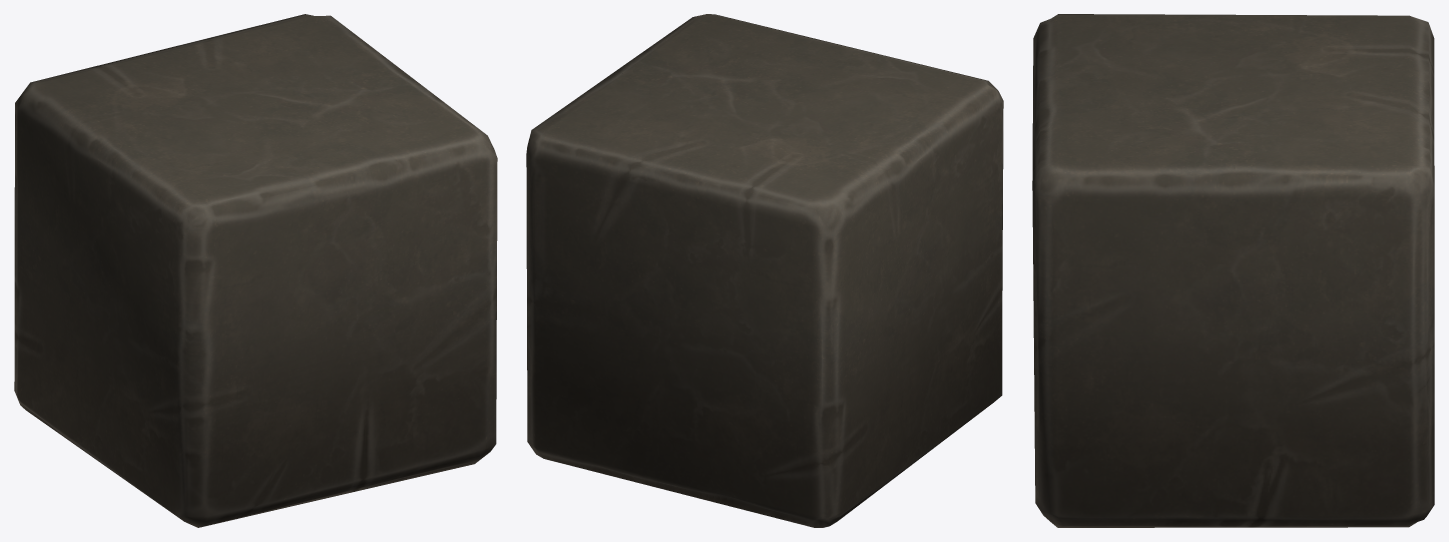
File: stone_cube.gltf
The picture shows the model from 3 angles, left to right: view 1: azimuth 30°, elevation 25°; view 2: azimuth 150°, elevation 25°; view 3: azimuth 270°, elevation 25°; orthographic projection. The views are drawn at different scales.
Visible parts, largest first — view 1: Cube.001; view 2: Cube.001; view 3: Cube.001.
Part boxes in pixels (x1,y1,x2,y2): Cube.001: (14, 14, 497, 527); Cube.001: (526, 14, 1003, 527); Cube.001: (1032, 14, 1434, 527).
Bounding box in the file's own units: 1.41 × 1.4 × 1.4.
Materials: 1 (1 with a texture image).
